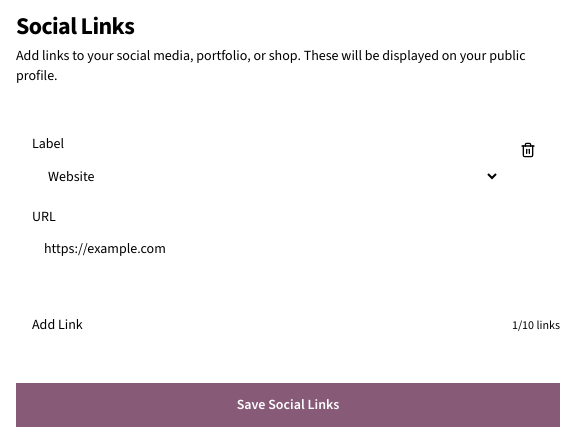
SocialLinksForm › form submission › disables save button when saving
Click the button "Save Social Links": (288, 405) [16, 383, 560, 427]
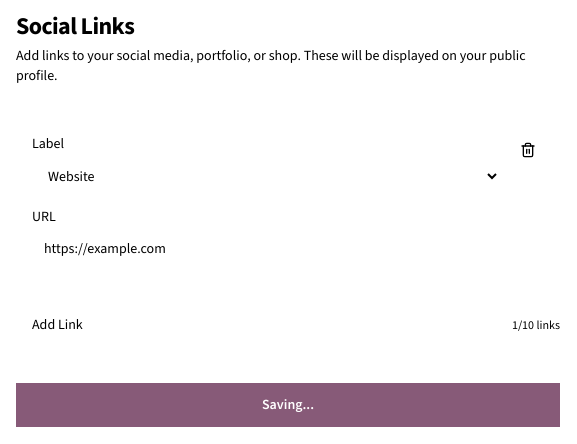
expect the button "Saving..." is disabled: met, box [16, 383, 560, 427]
